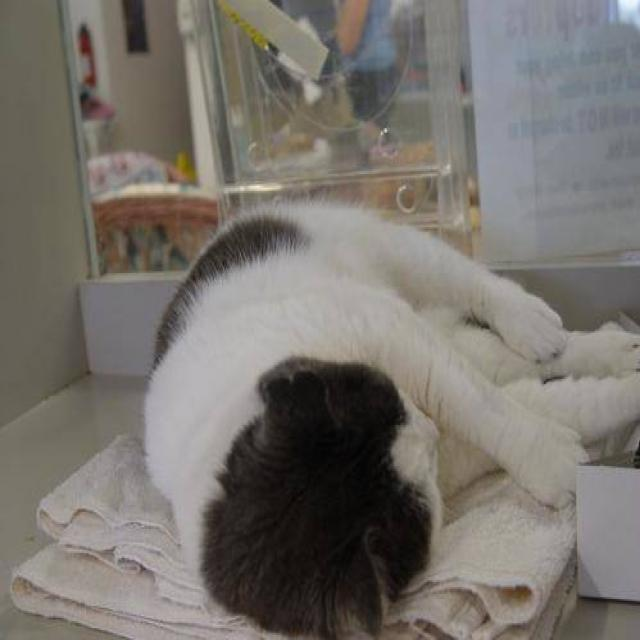cat: (141, 190, 639, 638)
